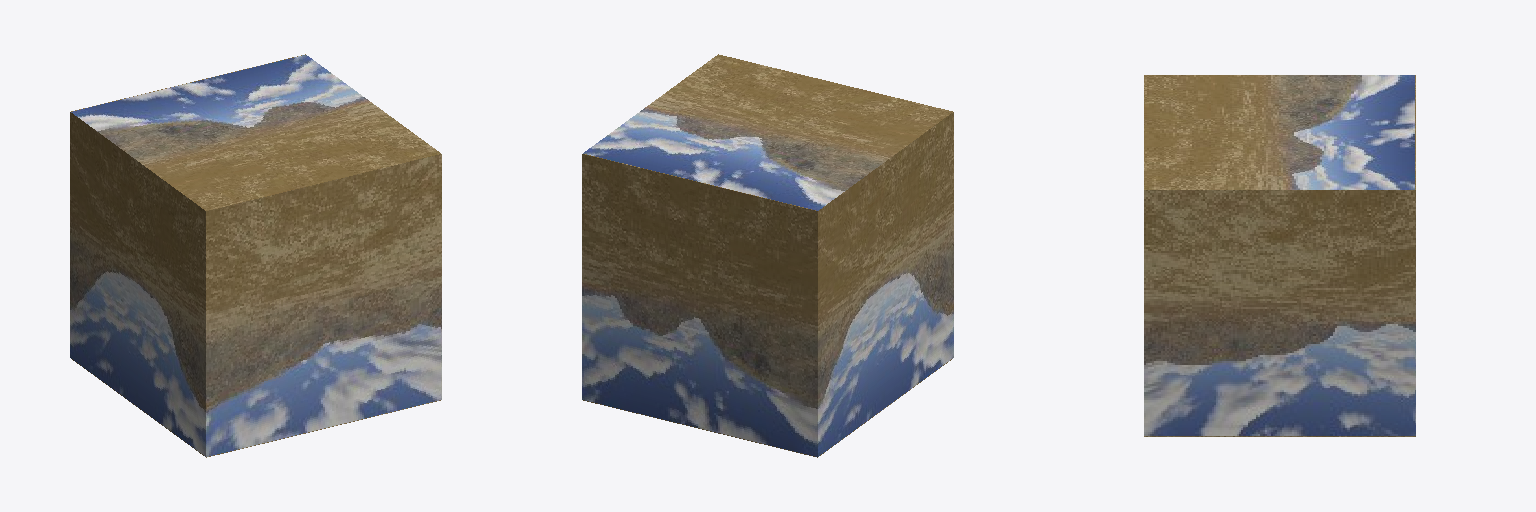
The picture shows the model from 3 angles: view 1: azimuth 30°, elevation 25°; view 2: azimuth 150°, elevation 25°; view 3: azimuth 270°, elevation 25°; orthographic projection.
Visible parts, largest first — view 1: Cube.001; view 2: Cube.001; view 3: Cube.001.
Part boxes in pixels (left/top/right/bottom): Cube.001: left=70, top=54, right=441, bottom=457; Cube.001: left=582, top=54, right=953, bottom=457; Cube.001: left=1144, top=75, right=1415, bottom=436.
Size of the model in its own units: 2 by 2 by 2.
1 materials, 1 textured.